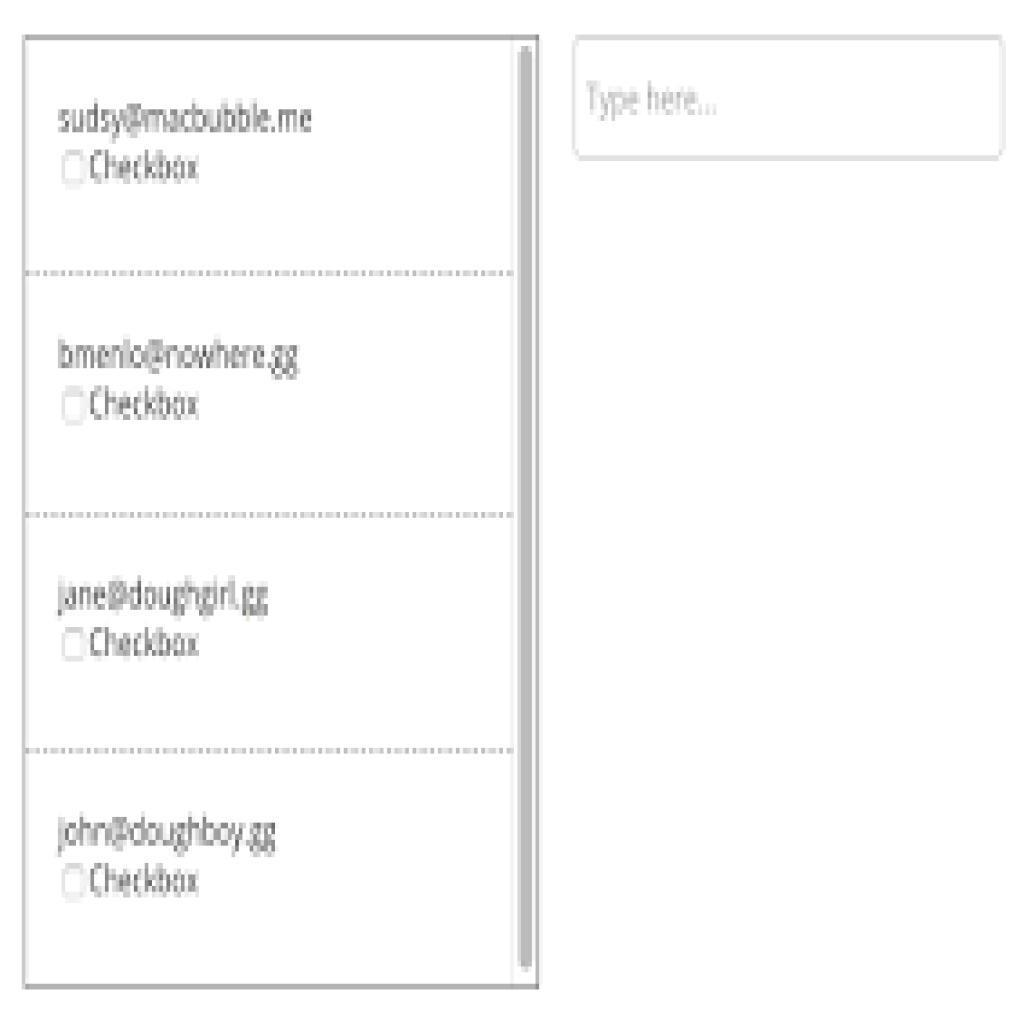checkbox: (60, 863, 93, 901), (61, 626, 88, 671), (62, 385, 88, 430), (60, 152, 88, 183)
input: (575, 40, 1005, 157)
